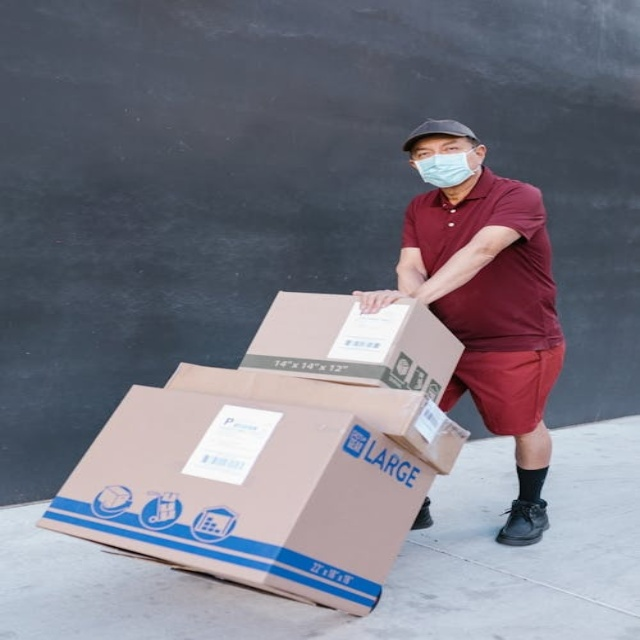Mascara: (413, 146, 478, 187)
Sin_gafas: (412, 138, 465, 157)
Sin_guantes: (353, 288, 409, 314)
